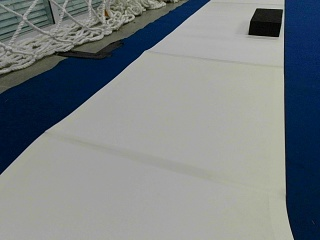block: (249, 8, 282, 36)
